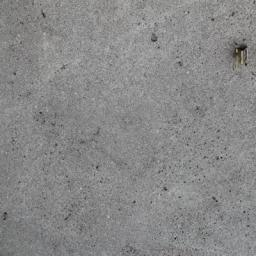FOD: (227, 42, 253, 78)
